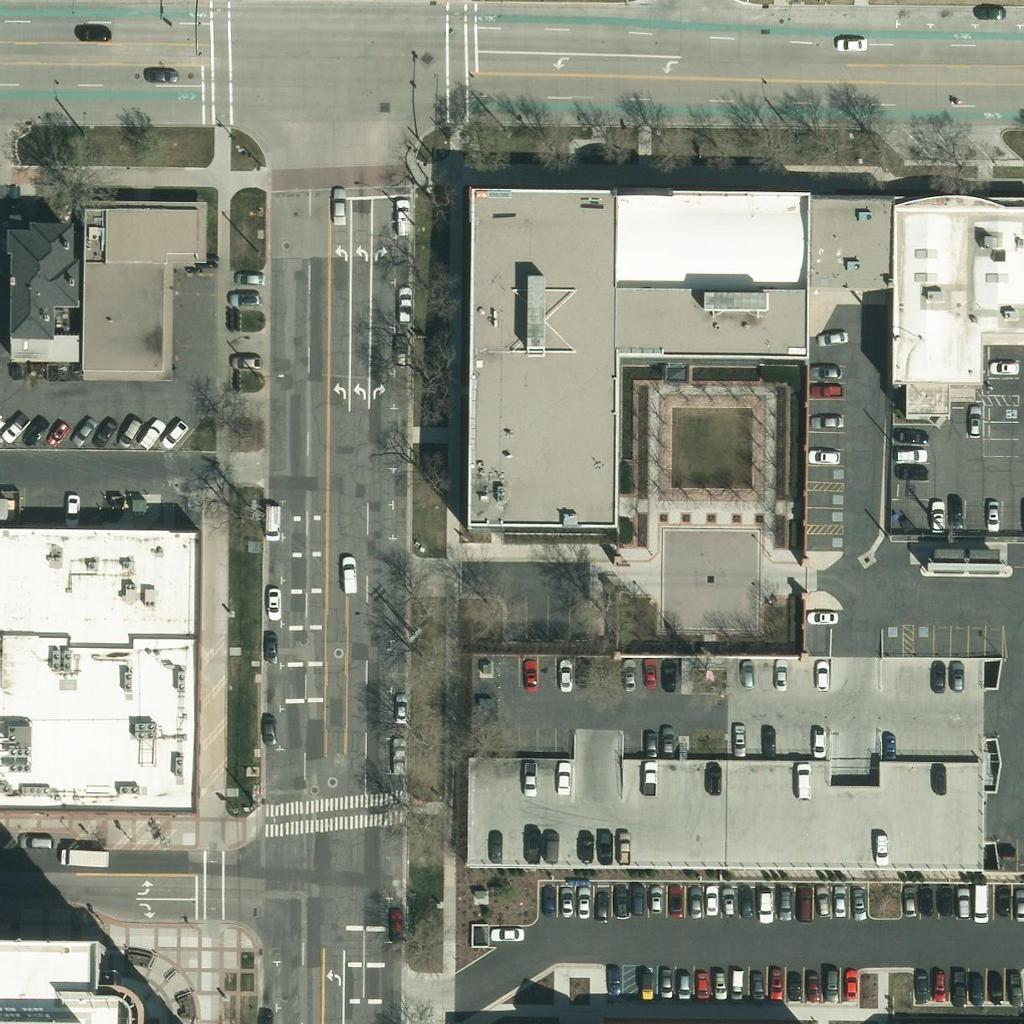car: (78, 16, 112, 50), (833, 29, 867, 63), (142, 56, 176, 90), (321, 189, 355, 223), (385, 198, 419, 232), (236, 260, 270, 294), (227, 281, 261, 315), (387, 284, 421, 318), (817, 320, 851, 354), (384, 329, 418, 363), (228, 345, 262, 379), (987, 350, 1021, 384), (811, 354, 845, 388), (812, 371, 846, 405), (811, 403, 845, 437), (957, 405, 991, 439), (19, 413, 53, 447), (66, 413, 100, 447), (88, 414, 122, 448), (112, 414, 146, 448), (40, 416, 74, 450), (134, 416, 168, 450), (157, 416, 191, 450), (893, 418, 927, 452), (808, 438, 842, 472), (890, 438, 924, 472), (895, 455, 929, 489), (53, 492, 87, 526), (936, 495, 970, 529), (919, 500, 953, 534), (256, 509, 290, 543), (332, 557, 366, 591), (256, 586, 290, 620), (806, 599, 840, 633), (253, 630, 287, 664), (564, 653, 598, 687), (631, 658, 665, 692), (729, 658, 763, 692), (763, 659, 797, 693), (804, 659, 838, 693), (513, 660, 547, 694), (547, 660, 581, 694), (612, 660, 646, 694), (652, 660, 686, 694), (921, 660, 955, 694), (940, 662, 974, 696), (383, 693, 417, 727), (250, 712, 284, 746), (721, 723, 755, 757), (751, 724, 785, 758), (802, 724, 836, 758), (650, 727, 684, 761), (871, 728, 905, 762), (633, 729, 667, 763), (381, 737, 415, 771), (632, 758, 666, 792), (545, 760, 579, 794), (698, 761, 732, 795), (512, 762, 546, 796), (785, 763, 819, 797), (920, 763, 954, 797), (17, 824, 51, 858), (515, 827, 549, 861), (606, 827, 640, 861), (534, 829, 568, 863), (586, 829, 620, 863), (569, 830, 603, 864), (863, 830, 897, 864), (477, 832, 511, 866), (619, 882, 653, 916), (927, 882, 961, 916), (637, 883, 671, 917), (658, 883, 692, 917), (531, 884, 565, 918), (604, 884, 638, 918), (694, 884, 728, 918), (728, 884, 762, 918), (787, 884, 821, 918), (906, 884, 940, 918), (985, 884, 1019, 918), (677, 885, 711, 919), (821, 885, 855, 919), (567, 886, 601, 920), (711, 886, 745, 920), (767, 886, 801, 920), (805, 886, 839, 920), (892, 886, 926, 920), (945, 886, 979, 920), (550, 887, 584, 921), (748, 888, 782, 922), (841, 888, 875, 922), (584, 889, 618, 923), (962, 891, 996, 925), (380, 911, 414, 945), (489, 916, 523, 950), (597, 962, 631, 996), (648, 966, 682, 1000), (758, 966, 792, 1000), (921, 966, 955, 1000), (703, 967, 737, 1001), (903, 967, 937, 1001), (629, 968, 663, 1002), (666, 968, 700, 1002), (685, 968, 719, 1002), (777, 968, 811, 1002), (795, 968, 829, 1002), (814, 968, 848, 1002), (832, 968, 866, 1002), (720, 969, 754, 1003), (833, 969, 867, 1003), (977, 969, 1011, 1003), (739, 970, 773, 1004), (959, 972, 993, 1006), (940, 973, 974, 1007), (0, 412, 31, 446), (973, 0, 1007, 29), (998, 973, 1024, 1007), (1002, 888, 1024, 922)
